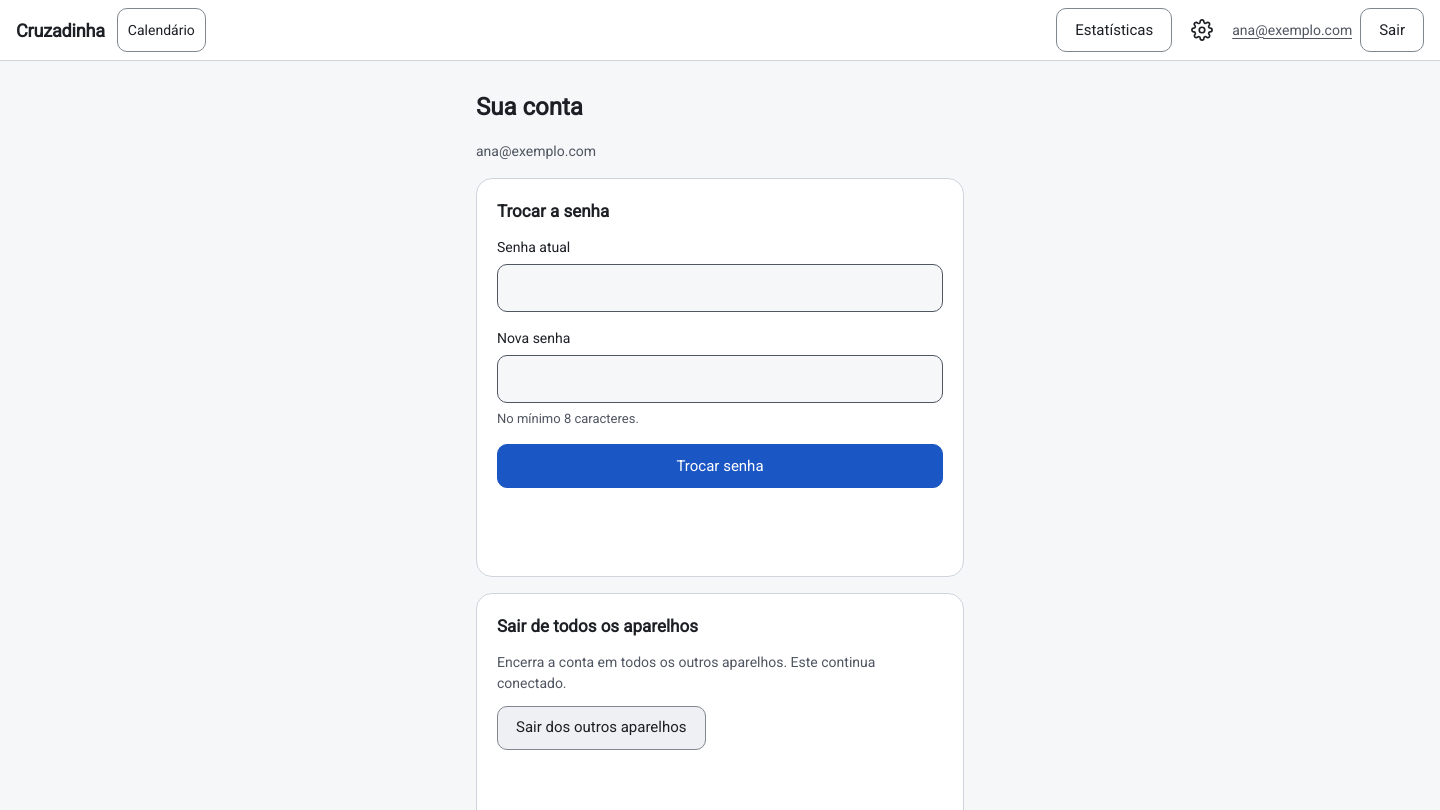
Test: AccountPage › changes the password and clears the fields; wrong password marks the field
Type "errada-errada" into the password field labelled "Senha atual" at (720,288), box x1=497 y1=264 x2=943 y2=312
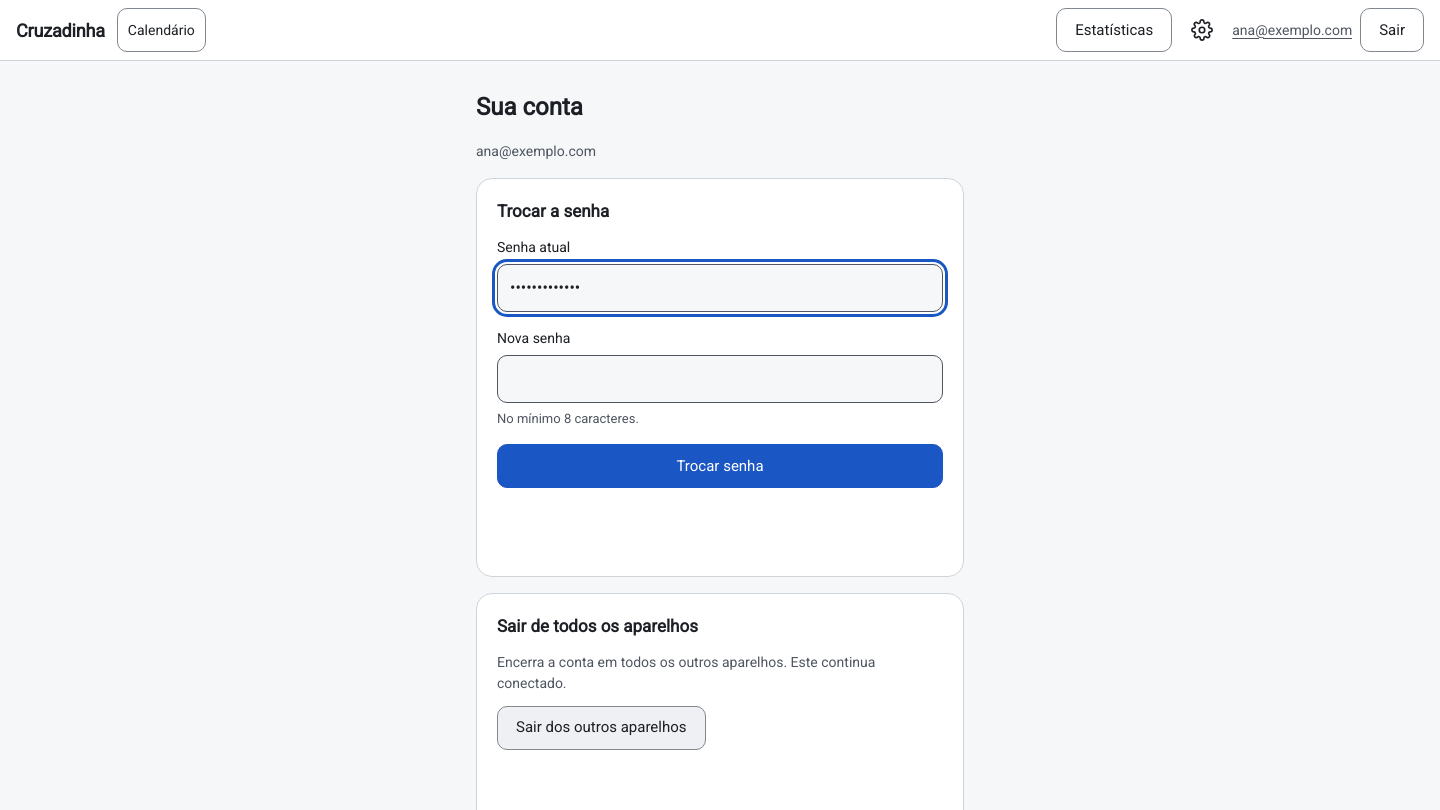
Type "senha-nova-456" into the password field labelled "Nova senha" at (720,378), box x1=497 y1=354 x2=943 y2=402
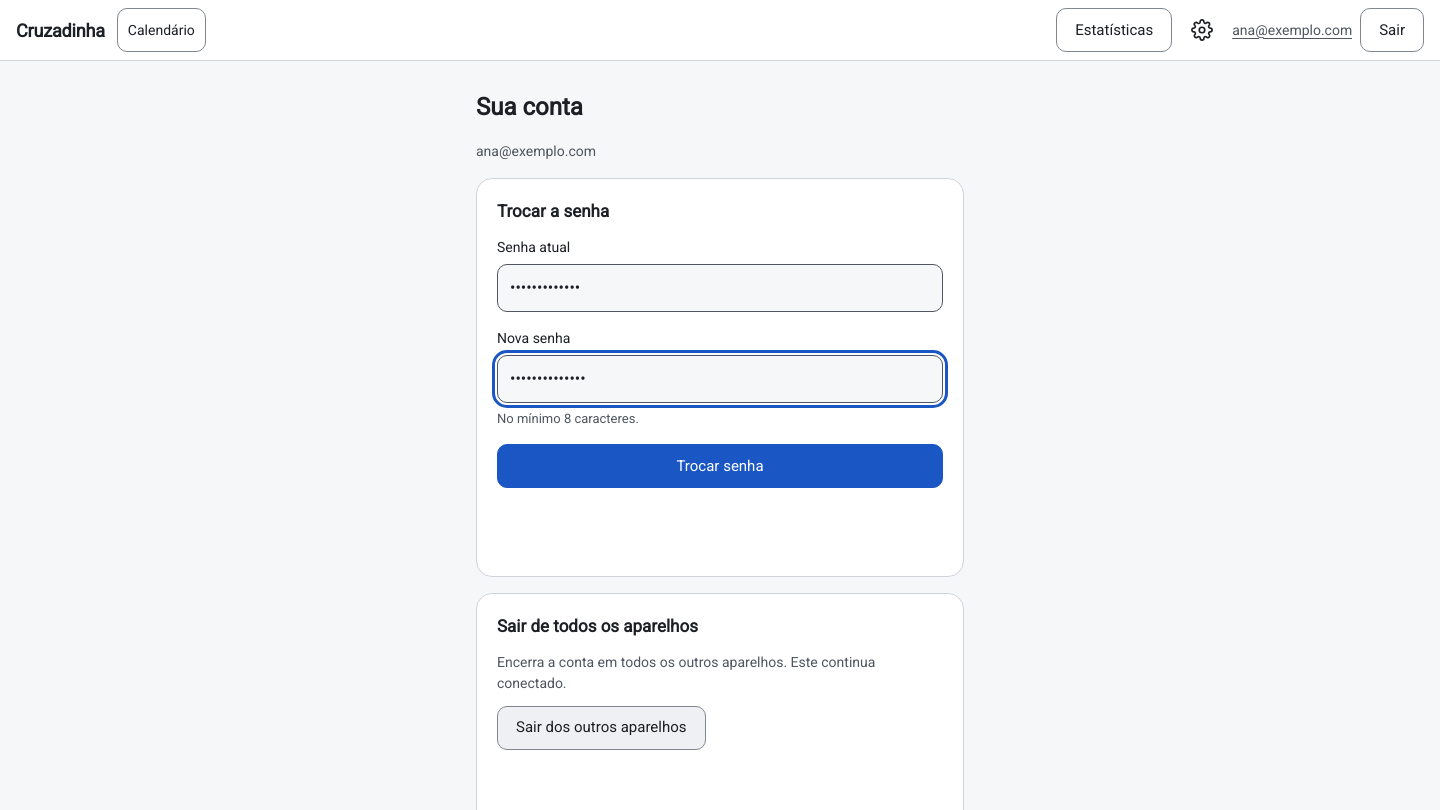
Click the button "Trocar senha" at (720,466), box x1=497 y1=444 x2=943 y2=488
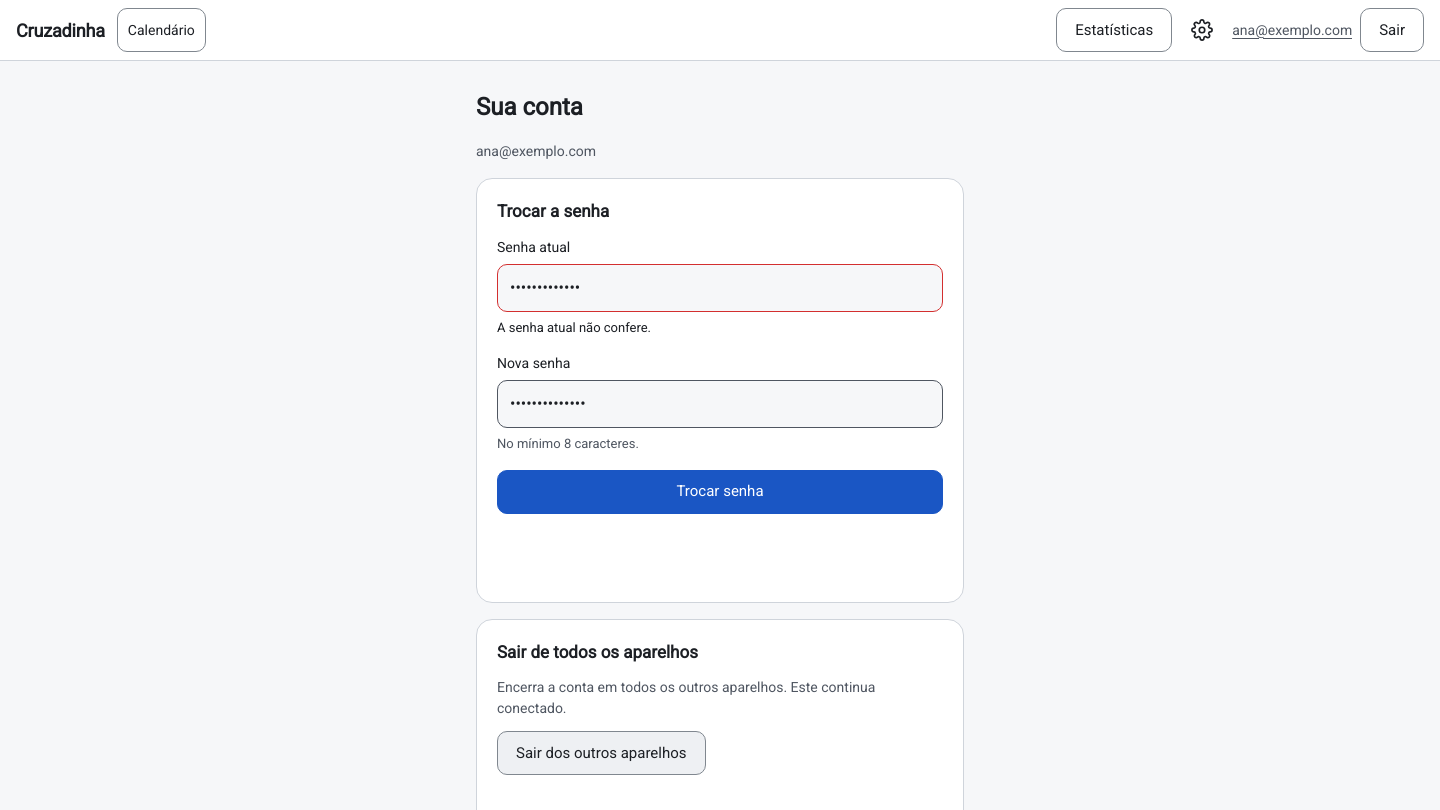
Expected: the text "A senha atual não confere." is shown, x1=497 y1=320 x2=651 y2=334
Click the button "Trocar senha" at (720,492), box x1=497 y1=470 x2=943 y2=514
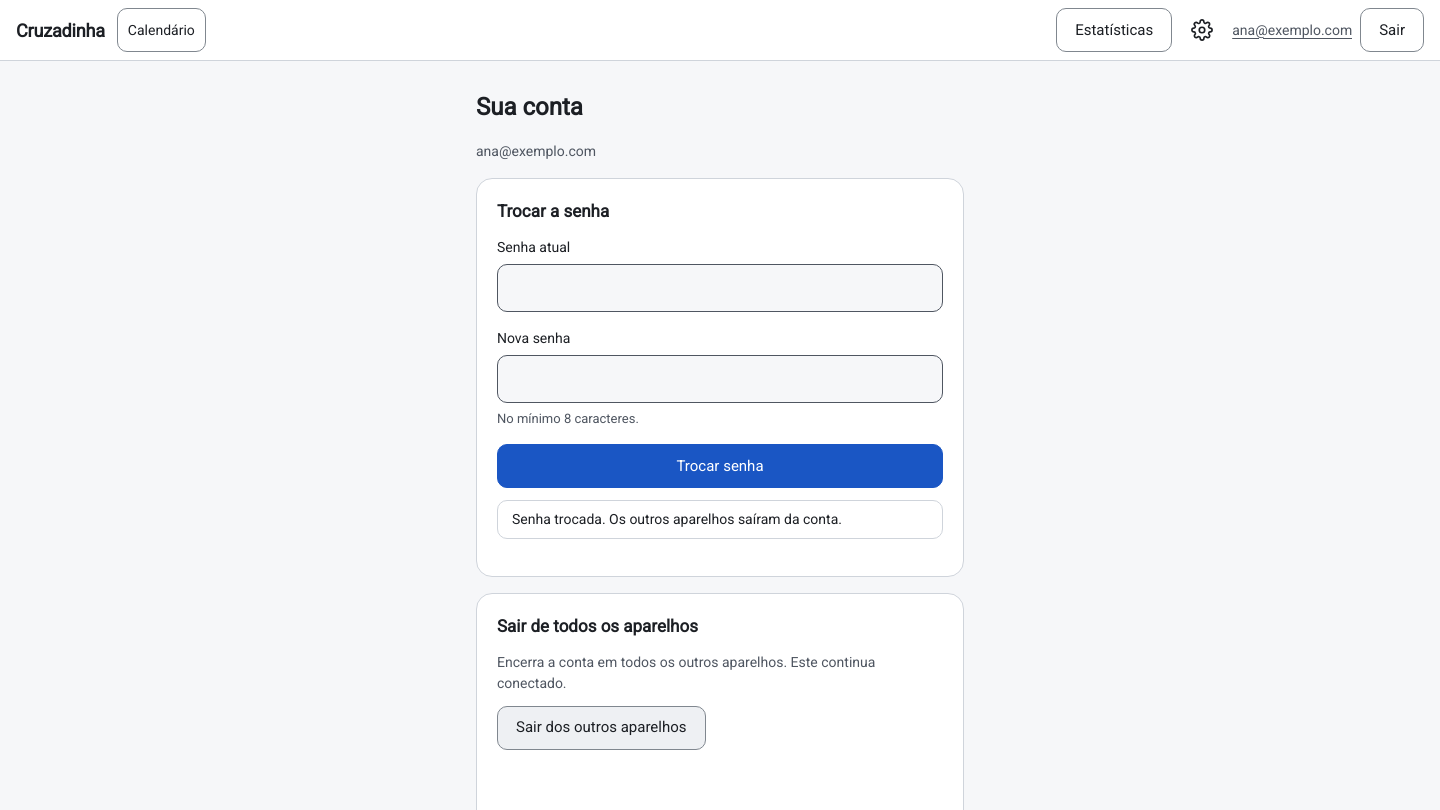
Expected: the text "Senha trocada. Os outros aparelhos saíram da conta." is shown, x1=512 y1=511 x2=842 y2=527
Expected: the password field labelled "Nova senha" is empty, x1=497 y1=354 x2=943 y2=402
